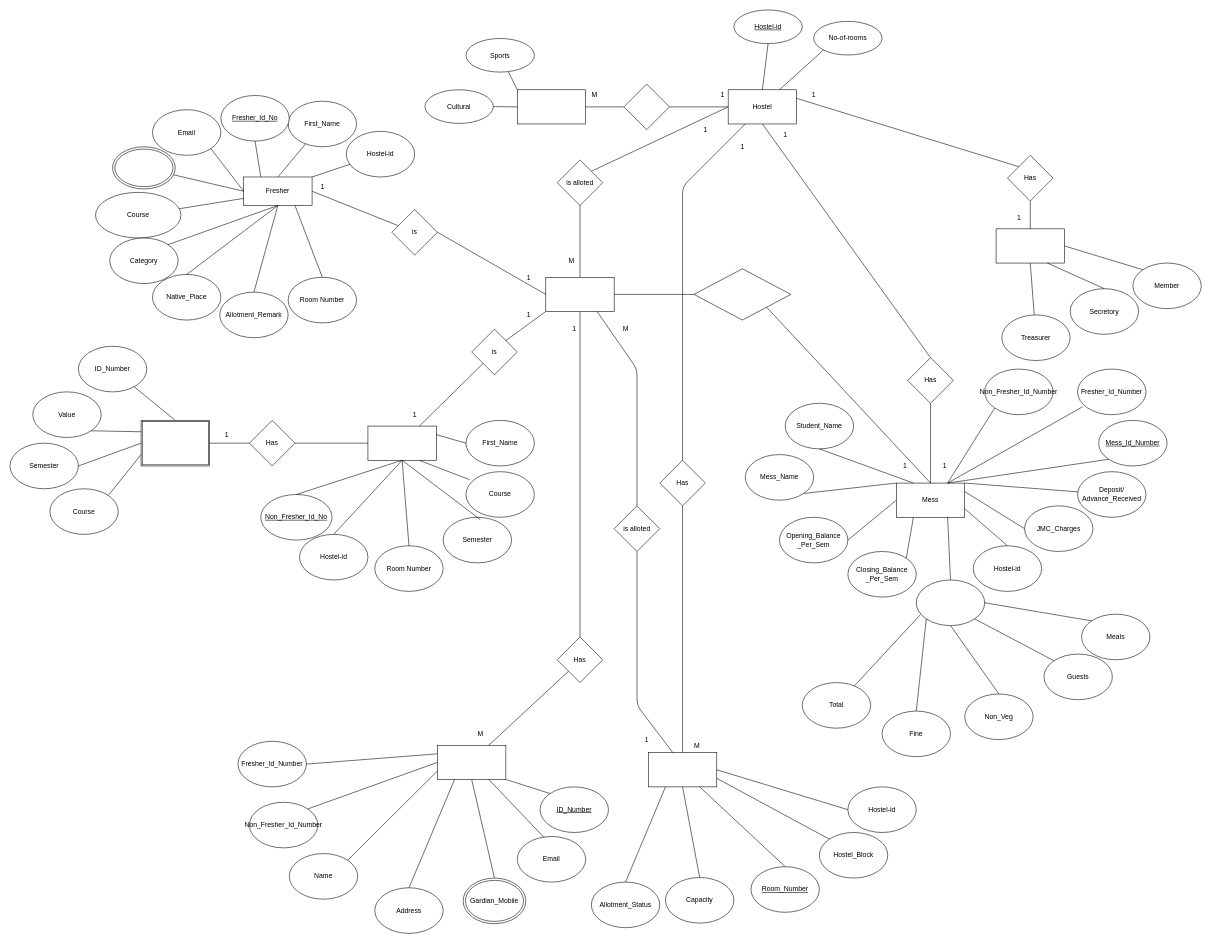
The diagram is 1211 pixels wide and 943 high, and some of its shapes have lost their labels. Each missing label, with the centre of its shape:
Bill_Per_Month: (x=950, y=602)
Committee: (x=1030, y=245)
Events: (x=551, y=106)
Has_membership_of: (x=742, y=294)
Local Guardian: (x=471, y=762)
Non-Fresher: (x=401, y=443)
Organises: (x=646, y=107)
Pointer: (x=175, y=443)
Room: (x=682, y=769)
Student: (x=579, y=294)
Student_Mobile: (x=143, y=167)
